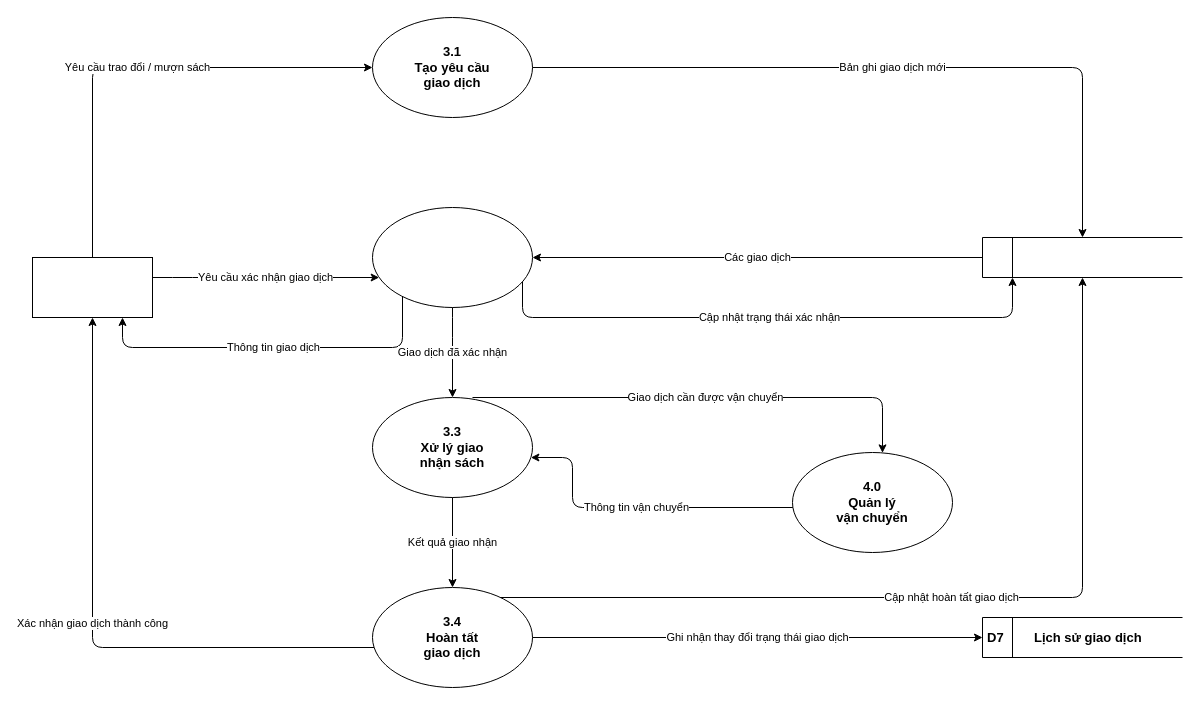
Some shapes in this 1200 by 705 pixel diagram are drawn without their labels. The centre of each missing label's shape, as x and y in pixels:
3.2 Xác nhận giao dịch: point 452,257
D3 Hồ sơ giao dịch: point 1082,257
Thành viên: point 92,287
